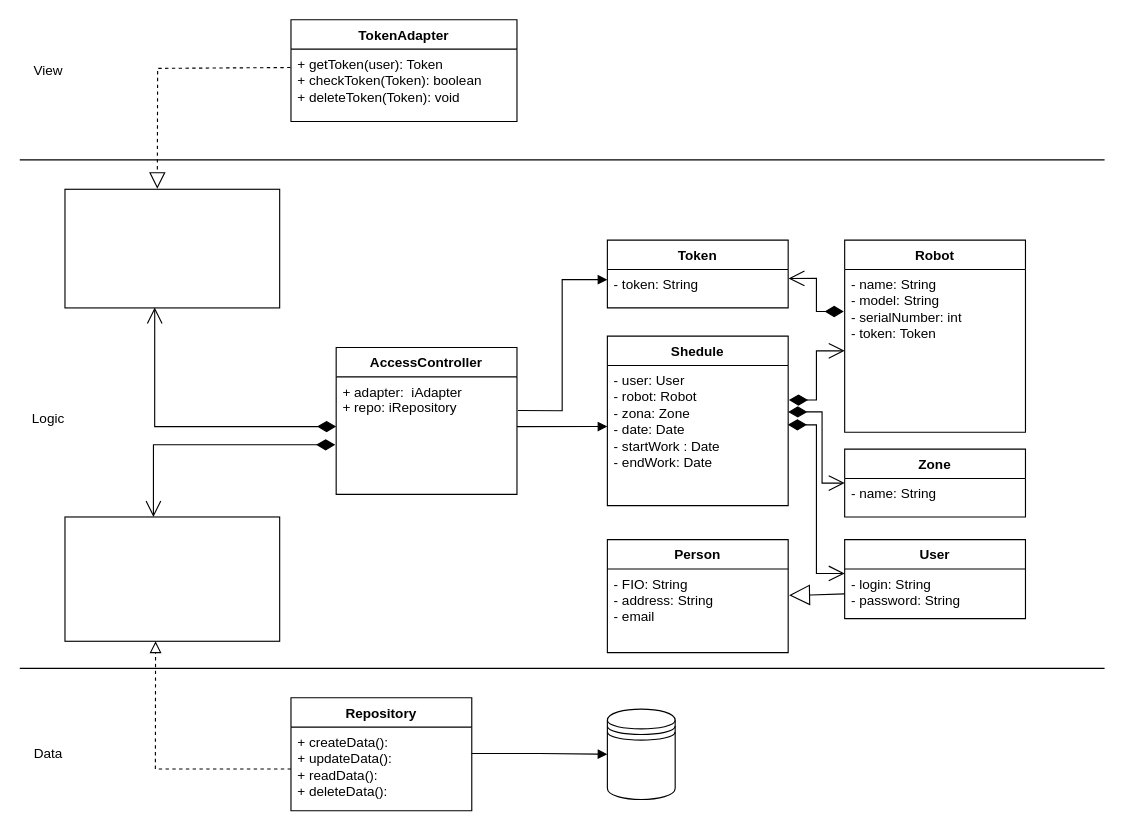
The diagram is 1124 pixels wide and 834 high, and some of its shapes have lost their labels. The centre of each missing label's shape, as x and y in pixels:
<<Interface>> iAdapter + getData(): + sendData():: pixel 172 248
<<Interface>> iRepository + getData(): + sendData():: pixel 172 578
Cloud: pixel 640 753
